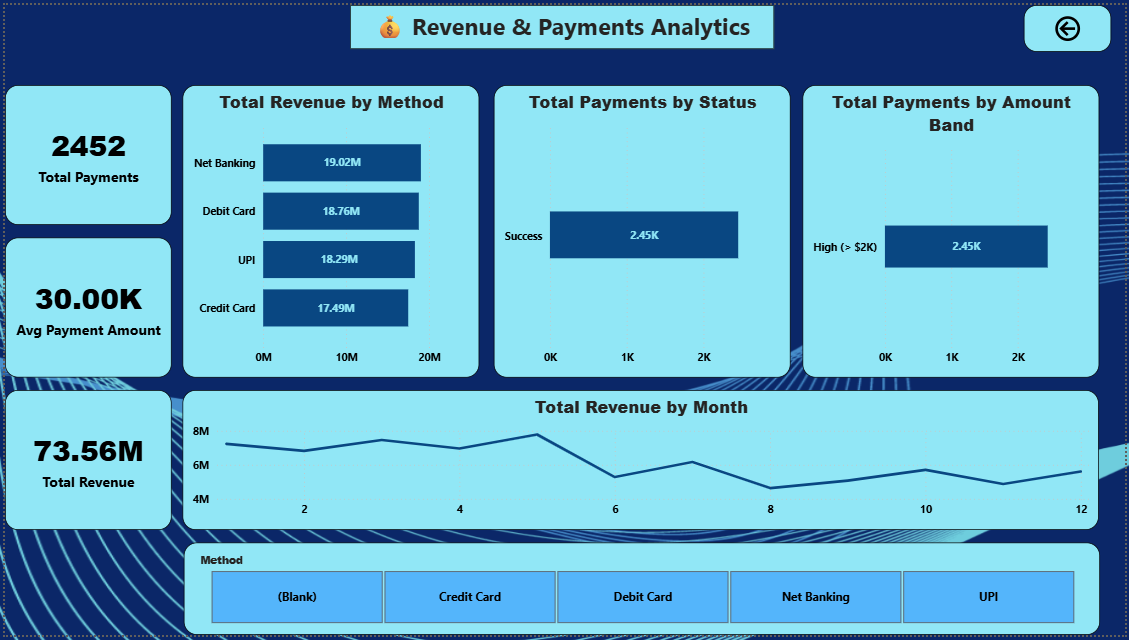

What the dashboard file says about the page in this screenshot:
{"tool":"powerbi","page":{"name":"Revenue & Payments","canvas":[1280,720],"ordinal":4},"visuals":[{"type":"textbox","box":[393.9,0,484.8,50.5],"z":0},{"type":"card","fields":{"Values":["Payments.Total Payments"]},"box":[0,90.9,190.4,160.1],"z":1000},{"type":"card","fields":{"Values":["Payments.Avg Payment Amount"]},"box":[0,265.5,190.4,160.1],"z":2000},{"type":"card","fields":{"Values":["Hotel Bookings.Total Revenue"]},"box":[0,440,190.4,160.1],"z":3000},{"type":"clusteredBarChart","fields":{"Category":["Payments.Method"],"Y":["Hotel Bookings.Total Revenue"]},"box":[203.4,90.9,339,334.7],"z":4000},{"type":"clusteredBarChart","fields":{"Y":["Payments.Total Payments"],"Category":["Payments.Status"]},"box":[558.3,90.9,339,334.7],"z":5000},{"type":"clusteredBarChart","fields":{"Y":["Payments.Total Payments"],"Category":["Payments.Amount Band"]},"box":[911.8,90.9,339,334.7],"z":6000},{"type":"lineChart","title":"Total Revenue by Month","fields":{"Category":["Date Table.Month Number","Date Table.Month Name"],"Y":["Hotel Bookings.Total Revenue"]},"box":[203.4,440,1047.4,160.1],"z":7000},{"type":"slicer","fields":{"Values":["Payments.Method"]},"box":[204.9,614.6,1047.4,105.3],"z":8000},{"type":"actionButton","box":[1164.1,0,100.3,53.8],"z":8001}]}

Visuals, with their boxes in screenshot pixels (x1, y1, x2, y2), scaled from the page's 1280x720 canvas onto the 1129x640 screenshot:
textbox: x1=347, y1=0, x2=775, y2=45
card - Payments.Total Payments: x1=0, y1=81, x2=168, y2=223
card - Payments.Avg Payment Amount: x1=0, y1=236, x2=168, y2=378
card - Hotel Bookings.Total Revenue: x1=0, y1=391, x2=168, y2=533
clusteredBarChart - Payments.Method x Hotel Bookings.Total Revenue: x1=179, y1=81, x2=478, y2=378
clusteredBarChart - Payments.Total Payments x Payments.Status: x1=492, y1=81, x2=791, y2=378
clusteredBarChart - Payments.Total Payments x Payments.Amount Band: x1=804, y1=81, x2=1103, y2=378
"Total Revenue by Month" lineChart: x1=179, y1=391, x2=1103, y2=533
slicer - Payments.Method: x1=181, y1=546, x2=1105, y2=639
actionButton: x1=1027, y1=0, x2=1115, y2=48
